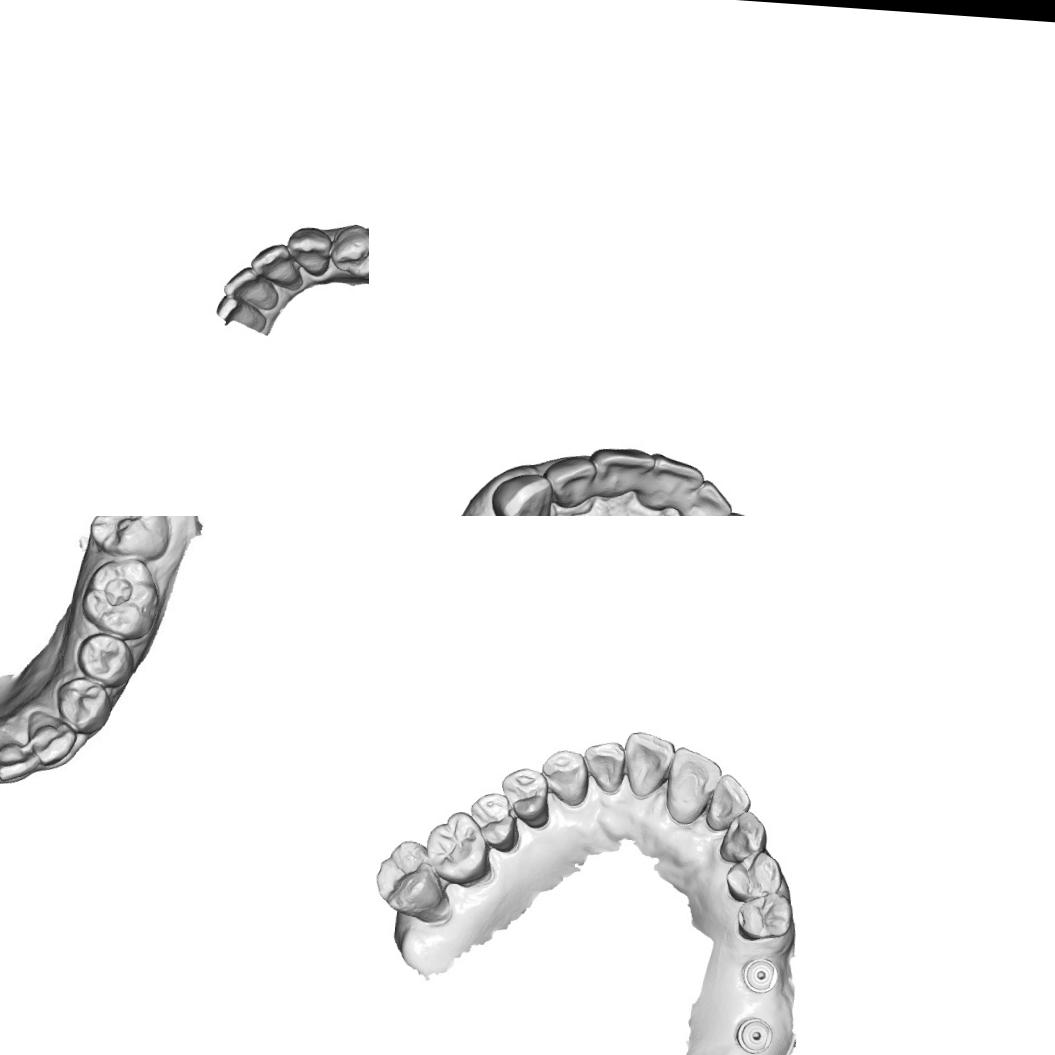canine: (536, 746, 592, 808), (286, 218, 342, 278), (716, 806, 769, 866), (487, 469, 554, 516), (30, 710, 72, 762)
implant: (731, 1014, 775, 1055), (739, 954, 779, 994)
incisor: (660, 744, 724, 828), (638, 450, 705, 514), (619, 728, 676, 800), (588, 444, 656, 498), (702, 770, 752, 834), (543, 454, 598, 509), (220, 264, 282, 312), (578, 736, 627, 794), (247, 238, 301, 288), (691, 477, 734, 516), (0, 735, 34, 784)
molar: (86, 557, 167, 642), (372, 835, 443, 917), (422, 806, 492, 887), (85, 516, 169, 558)
premolar: (732, 886, 794, 944), (722, 846, 785, 903), (464, 790, 520, 853), (497, 764, 552, 824), (72, 630, 128, 685), (60, 678, 113, 727), (327, 220, 369, 281)
